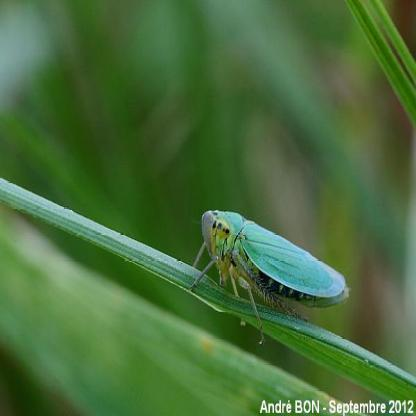Green-Leafhopper: (191, 202, 351, 354)
